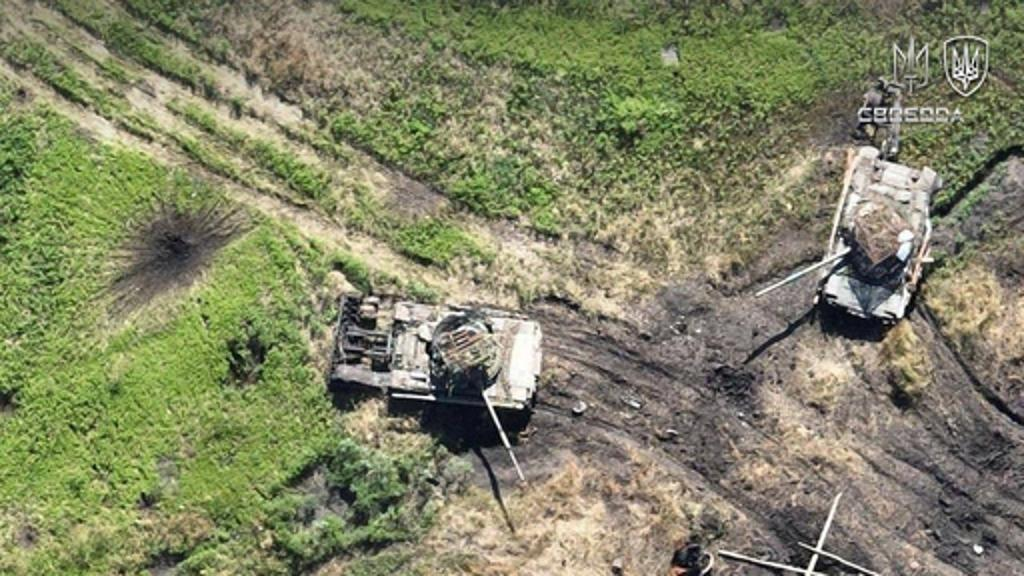TANK: (322, 280, 540, 484), (748, 142, 938, 346)
